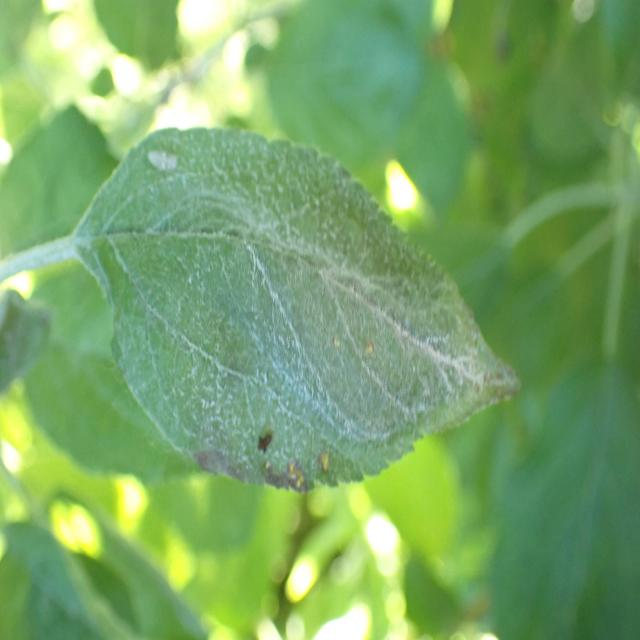Powdery_mildew: (63, 113, 524, 527)
